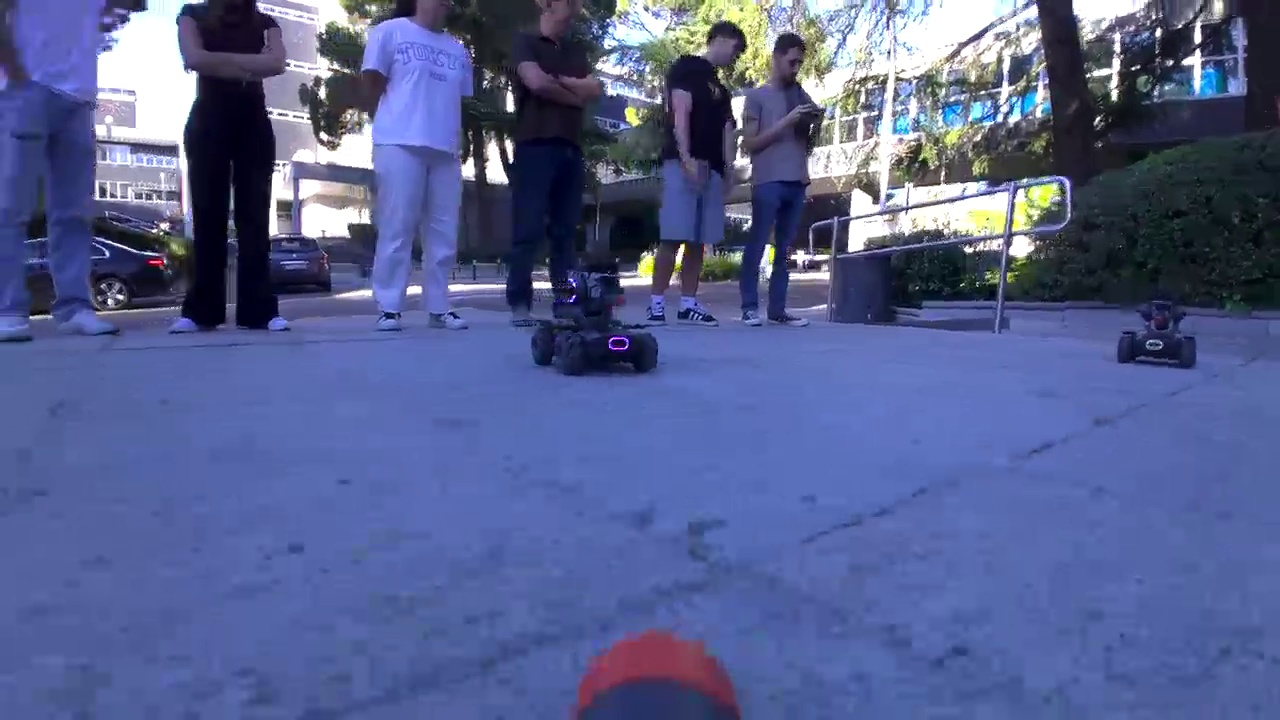robot: (530, 262, 659, 377), (1115, 295, 1197, 369)
